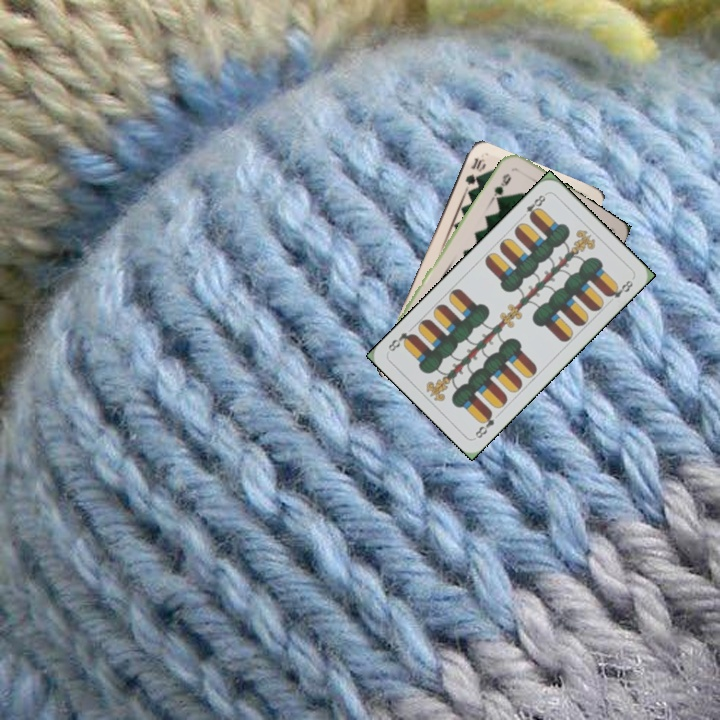E8: (517, 189, 550, 222), (471, 407, 497, 441)
G10: (461, 154, 486, 193)
G9: (488, 169, 514, 204)
